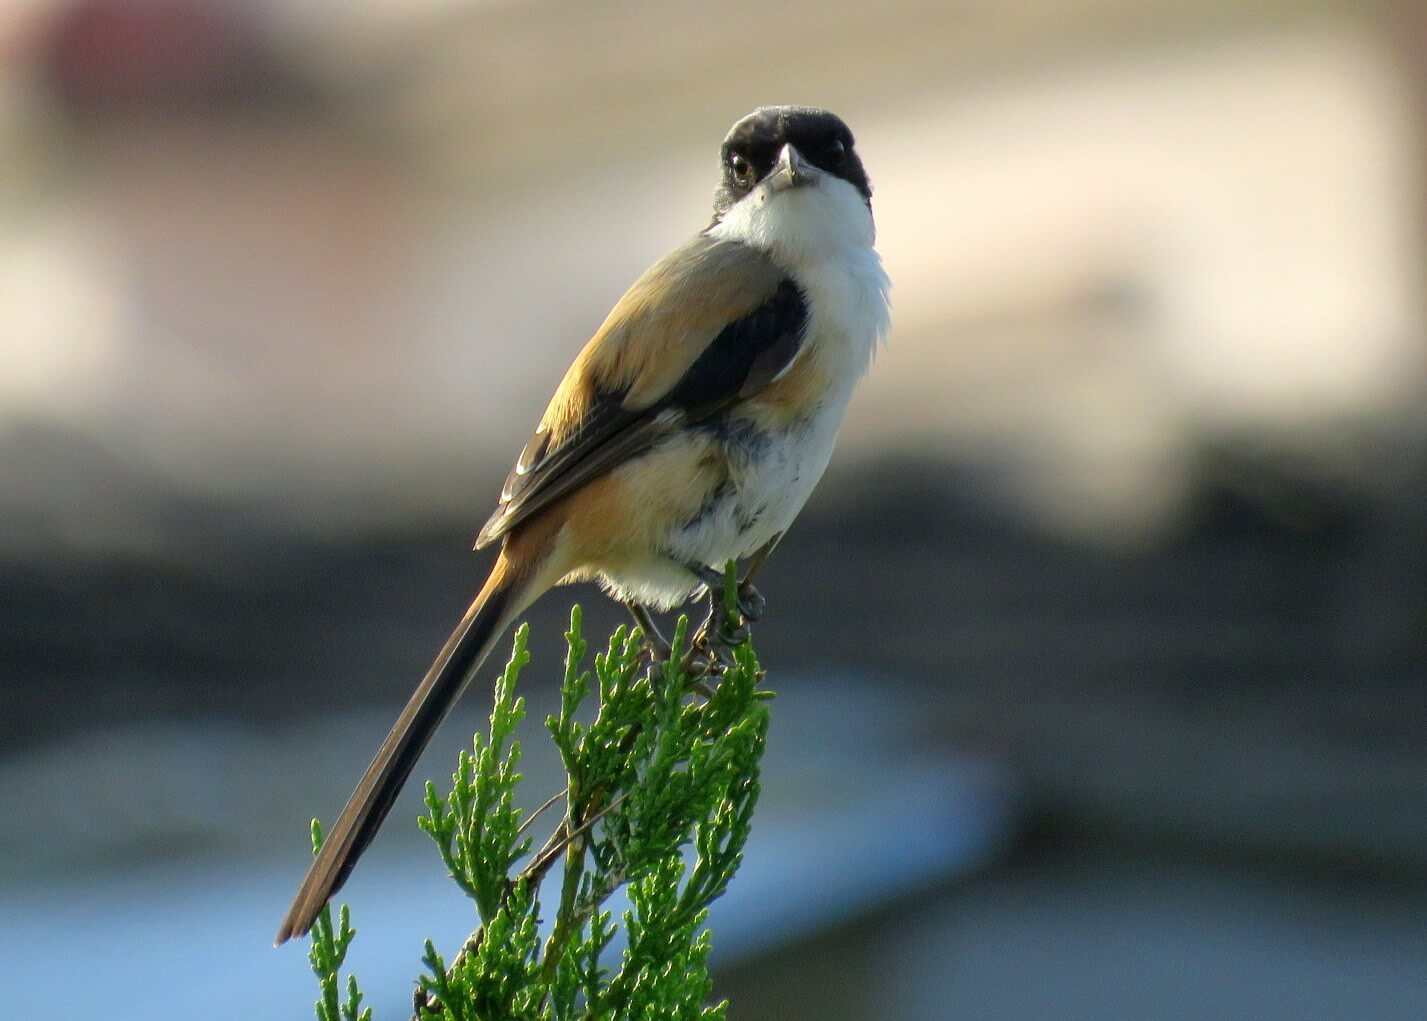bird: (271, 94, 903, 958)
